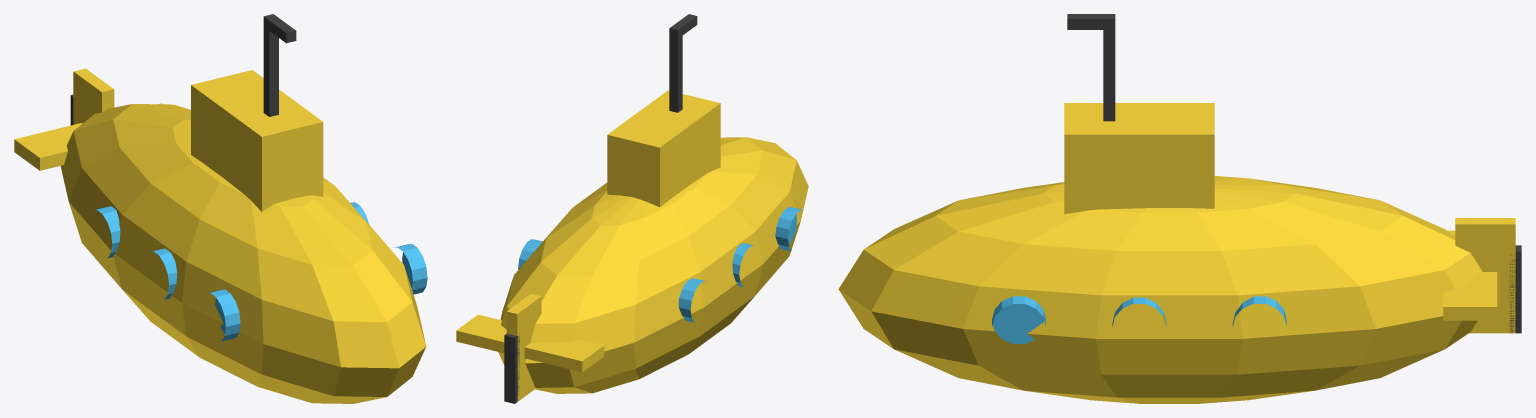
Rendered from ubat.glb.
3 renders of one model, left to right at view 1: azimuth 30°, elevation 25°; view 2: azimuth 150°, elevation 25°; view 3: azimuth 270°, elevation 25°, orthographic. The views are drawn at different scales.
Visible parts, largest first — view 1: ubat; view 2: ubat; view 3: ubat.
Boxes of the visible parts, x1,y1,x2,y2 form: ubat: [14, 14, 427, 403]; ubat: [456, 14, 808, 403]; ubat: [838, 14, 1521, 403].
Size of the model in its own units: 0.82 by 1.38 by 2.27.
